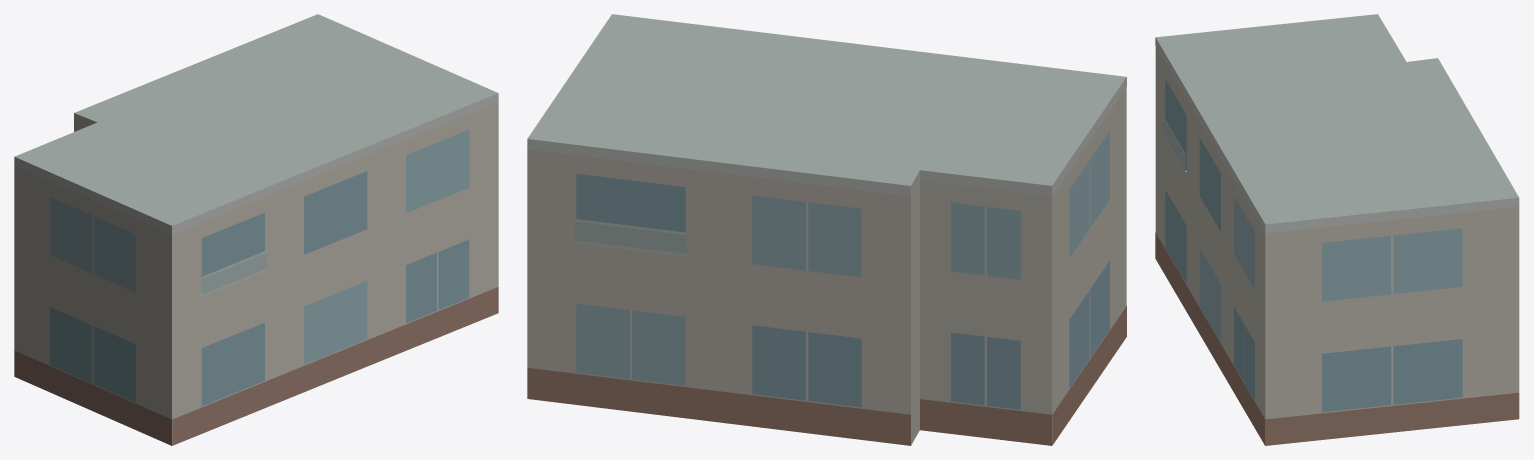
File: survey-upis-32711877.glb
3 views of the same model, side by side, from view 1: azimuth 30°, elevation 25°; view 2: azimuth 150°, elevation 25°; view 3: azimuth 270°, elevation 25° (orthographic). The views are drawn at different scales.
Visible parts, largest first — view 1: survey-upis-32711877.tmp; view 2: survey-upis-32711877.tmp; view 3: survey-upis-32711877.tmp.
Part boxes in pixels (x1,y1,x2,y2): survey-upis-32711877.tmp: (14,14,498,445); survey-upis-32711877.tmp: (527,14,1126,445); survey-upis-32711877.tmp: (1155,14,1519,445).
Bounding box in the file's own units: 12.44 × 6.1 × 9.09.
